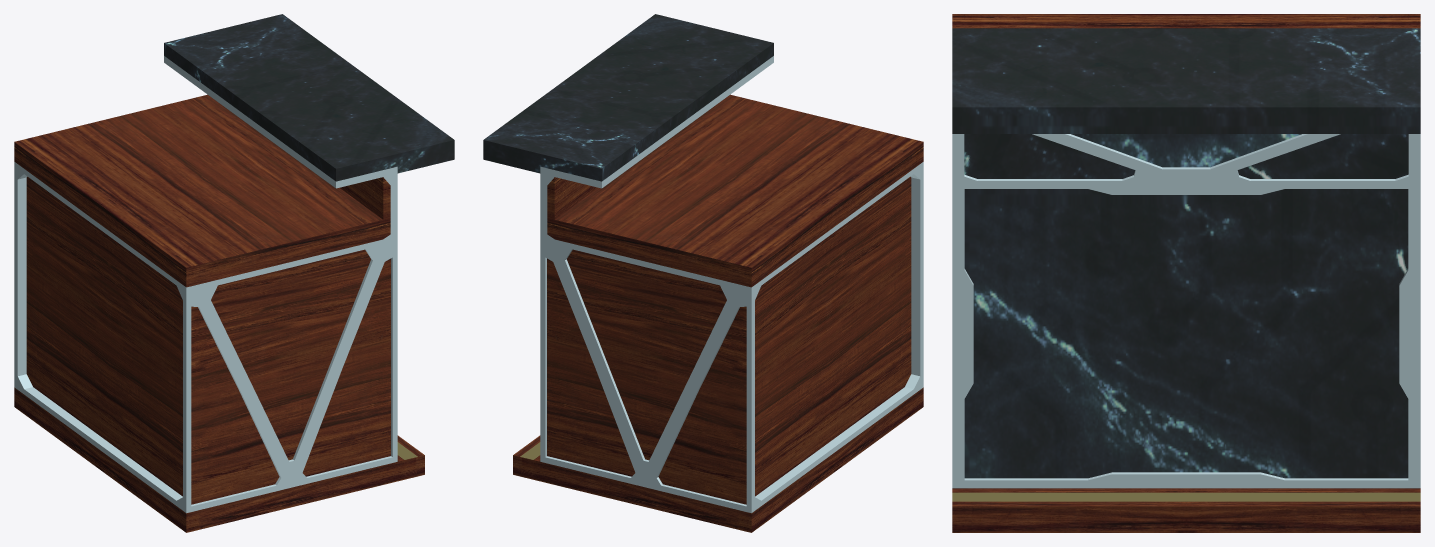
File: DJTable.fbx
3 renders of one model, left to right at view 1: azimuth 30°, elevation 25°; view 2: azimuth 150°, elevation 25°; view 3: azimuth 270°, elevation 25°, orthographic. The views are drawn at different scales.
Parts seen in each view (by area): view 1: bar_counter_high_A.004; view 2: bar_counter_high_A.004; view 3: bar_counter_high_A.004.
Part boxes in pixels (left/top/right/bottom): bar_counter_high_A.004: left=14, top=14, right=454, bottom=532; bar_counter_high_A.004: left=483, top=14, right=923, bottom=532; bar_counter_high_A.004: left=952, top=14, right=1420, bottom=532.
Size of the model in its own units: 90 by 105 by 100.
